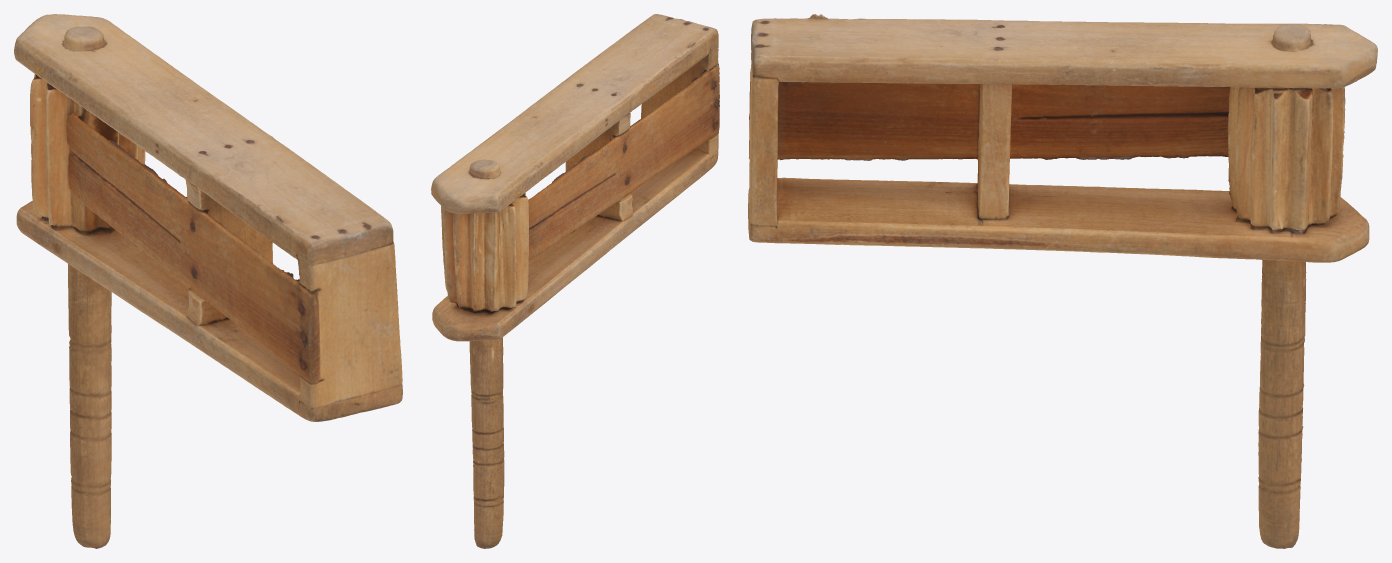
File: item5.glb
The picture shows the model from 3 angles, left to right: view 1: azimuth 30°, elevation 25°; view 2: azimuth 150°, elevation 25°; view 3: azimuth 270°, elevation 25°; orthographic projection. The views are drawn at different scales.
Parts seen in each view (by area): view 1: Object_2; view 2: Object_2; view 3: Object_2.
Part boxes in pixels (<box>): Object_2: <box>14,14,402,548</box>; Object_2: <box>431,14,719,548</box>; Object_2: <box>748,14,1377,548</box>.
Bounding box in the file's own units: 5.52 × 26.69 × 29.63.
Materials: 1 (1 with a texture image).
